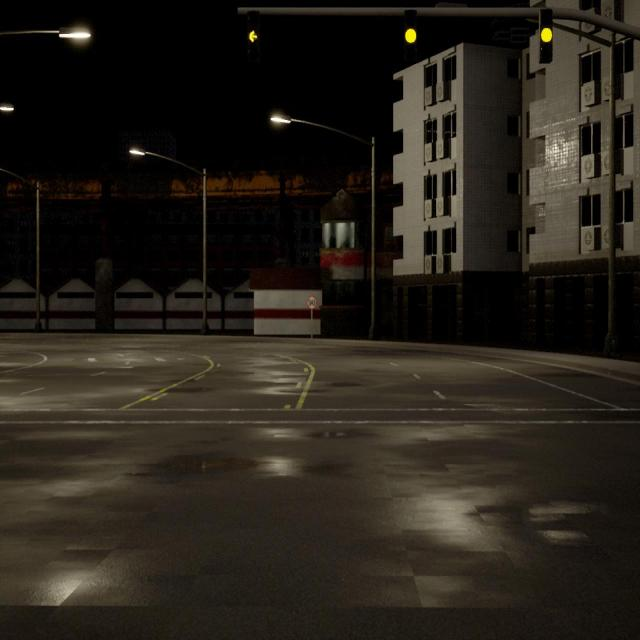Traffic_Signs: (307, 297, 316, 308)
traffic_light: (540, 10, 552, 60), (248, 11, 260, 59), (405, 11, 416, 60)
